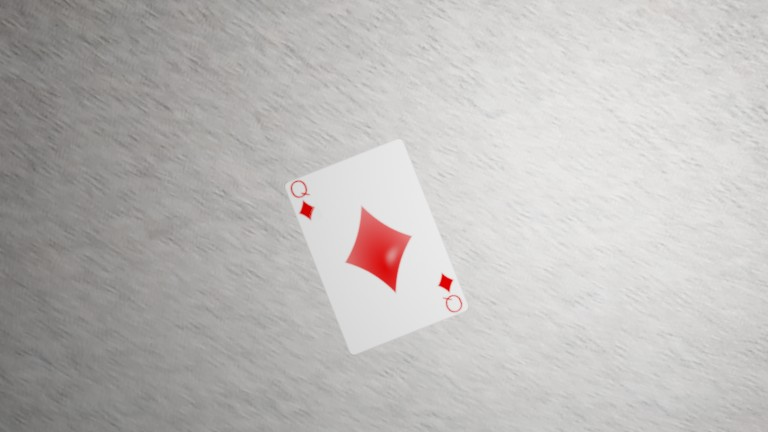queen_of_diamonds: (430, 267, 468, 316), (286, 178, 324, 226)
